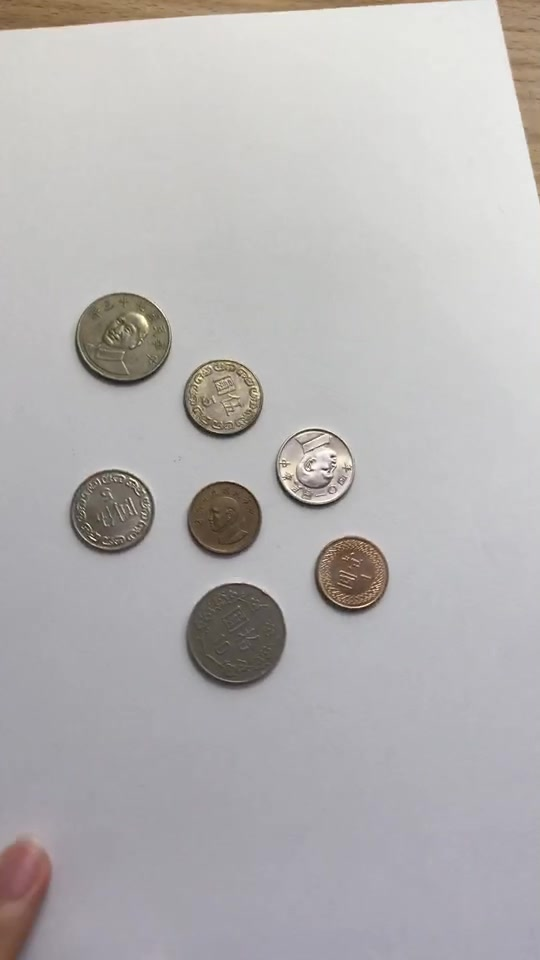1 dallar: (176, 477, 265, 562), (307, 531, 396, 616)
10 dallar: (65, 285, 173, 396), (179, 577, 287, 688)
5 dallar: (59, 461, 158, 562), (173, 349, 272, 450), (270, 413, 369, 514)
